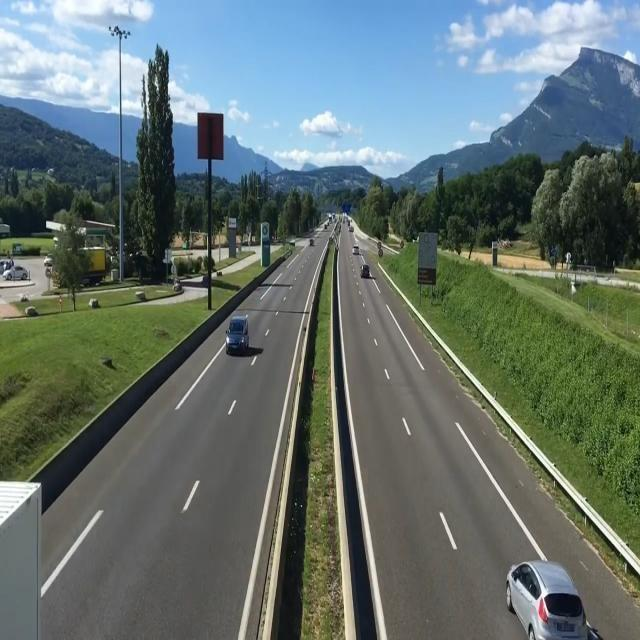Car: (502, 558, 589, 640)
Van: (224, 313, 250, 354), (360, 264, 371, 280)
